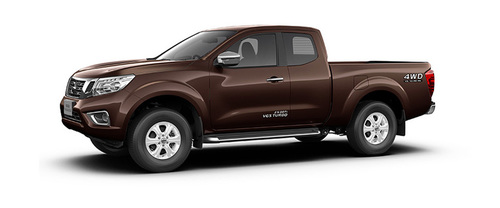pickup: (59, 22, 438, 182)
